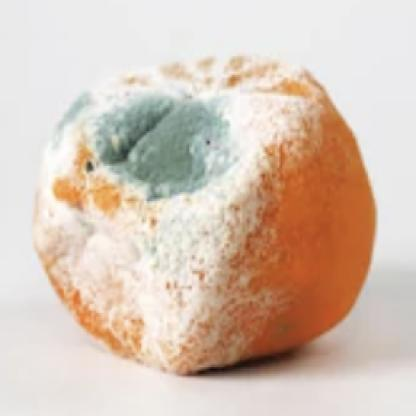rotten: (32, 49, 379, 376)
